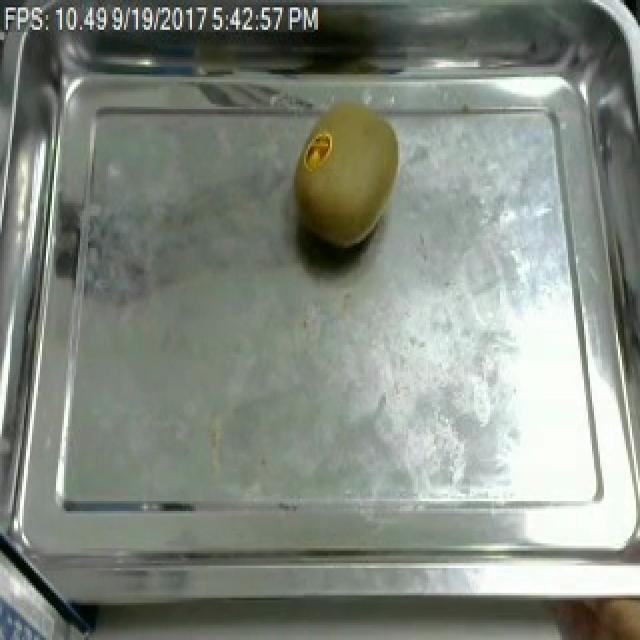Fruit: (282, 87, 416, 260)
